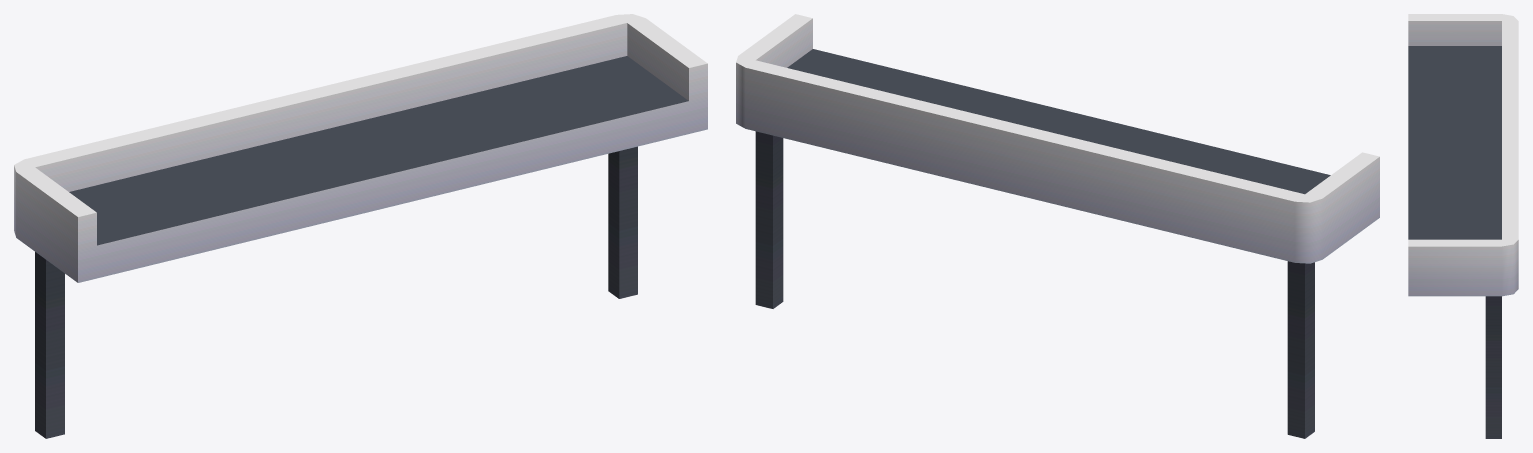
Rendered from detail-overhang-wide.glb.
The picture shows the model from 3 angles, left to right: view 1: azimuth 30°, elevation 25°; view 2: azimuth 150°, elevation 25°; view 3: azimuth 270°, elevation 25°; orthographic projection. The views are drawn at different scales.
Parts seen in each view (by area): view 1: detail-overhang-wide; view 2: detail-overhang-wide; view 3: detail-overhang-wide.
Boxes of the visible parts, x1=… form: detail-overhang-wide: x1=14, y1=14, x2=707, y2=438; detail-overhang-wide: x1=736, y1=14, x2=1379, y2=438; detail-overhang-wide: x1=1408, y1=14, x2=1518, y2=438.
Size of the model in its own units: 1 by 0.4 by 0.2.
1 material, 1 textured.
